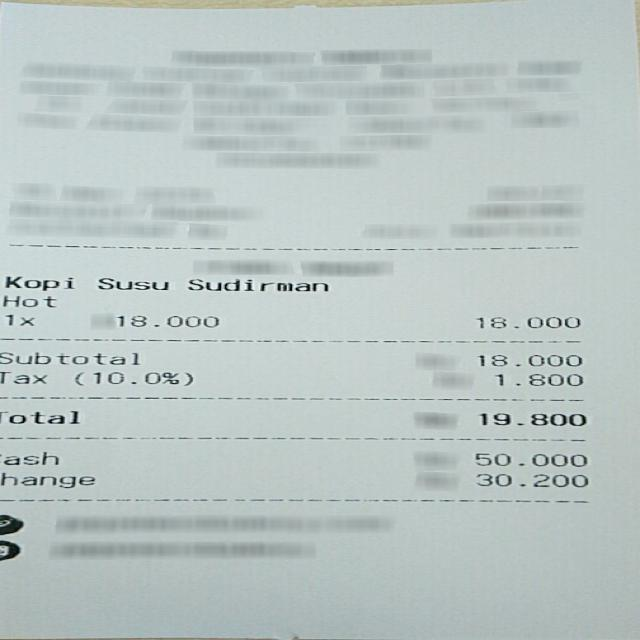text: (0, 351, 139, 365), (187, 278, 326, 290), (474, 473, 585, 487), (474, 452, 584, 466), (0, 471, 93, 487), (72, 372, 190, 384), (477, 412, 583, 425), (117, 314, 217, 327), (473, 315, 578, 327), (0, 409, 79, 424), (477, 354, 578, 365), (3, 275, 71, 290), (494, 373, 580, 384), (0, 451, 59, 465), (97, 277, 165, 289), (1, 294, 54, 307), (0, 371, 43, 382), (4, 313, 34, 325)
